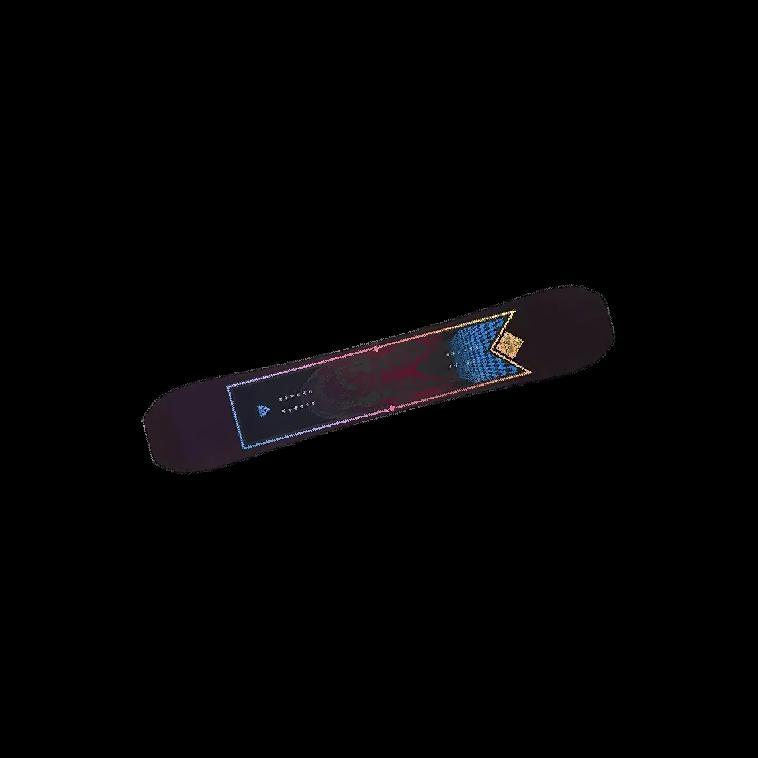Snowboard: (137, 274, 628, 497)
